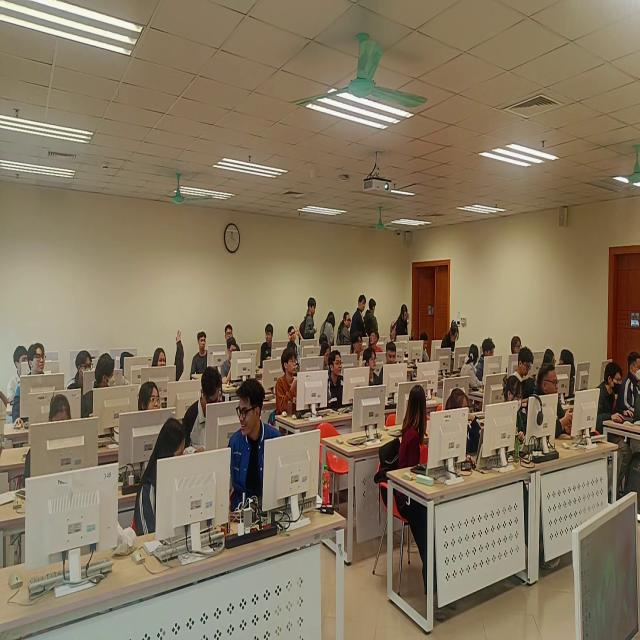raise_hand: (151, 330, 186, 389), (289, 323, 305, 359)
raise_head: (13, 342, 45, 431), (277, 350, 300, 416), (9, 343, 29, 403), (327, 350, 347, 407), (138, 381, 162, 419), (191, 330, 209, 377), (364, 347, 379, 391), (351, 330, 364, 364), (223, 321, 235, 345)
stand: (351, 294, 367, 346), (392, 302, 411, 342), (302, 297, 318, 340), (322, 309, 336, 350), (366, 298, 380, 339), (339, 309, 352, 349)
using_computer: (23, 394, 74, 490), (186, 368, 222, 454), (447, 388, 485, 465), (539, 360, 576, 439), (593, 363, 630, 436), (502, 377, 531, 448), (64, 349, 95, 396), (219, 337, 239, 385), (479, 335, 497, 384), (514, 346, 535, 387), (441, 322, 461, 362), (380, 340, 398, 384), (420, 331, 431, 365), (511, 332, 524, 358), (319, 343, 330, 372)
